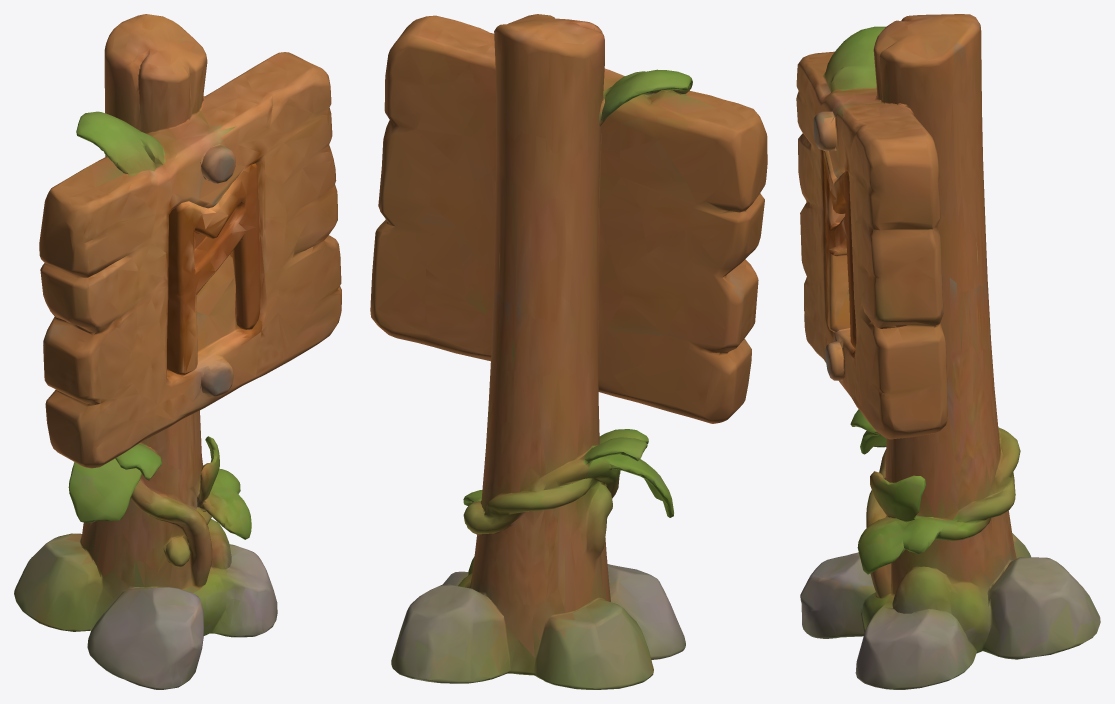
Rendered from cartel_runa_naranja.glb.
The picture shows the model from 3 angles, left to right: view 1: azimuth 30°, elevation 25°; view 2: azimuth 150°, elevation 25°; view 3: azimuth 270°, elevation 25°; orthographic projection. The views are drawn at different scales.
Visible parts, largest first — view 1: cartel_runa_naranja_malla; view 2: cartel_runa_naranja_malla; view 3: cartel_runa_naranja_malla.
Boxes of the visible parts, x1=… form: cartel_runa_naranja_malla: x1=14, y1=14, x2=341, y2=689; cartel_runa_naranja_malla: x1=370, y1=14, x2=767, y2=689; cartel_runa_naranja_malla: x1=796, y1=14, x2=1100, y2=689.
Size of the model in its own units: 0.1579 by 0.2864 by 0.1253.
1 material, 1 textured.
